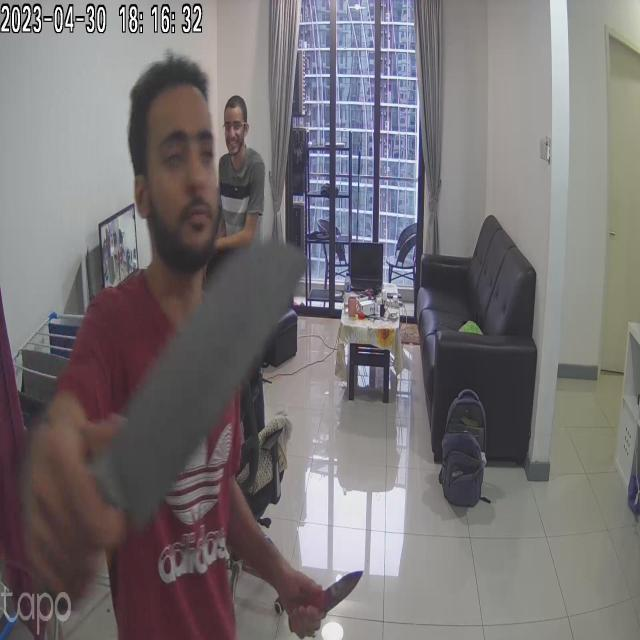Knife: (66, 238, 309, 526), (280, 559, 370, 631)
